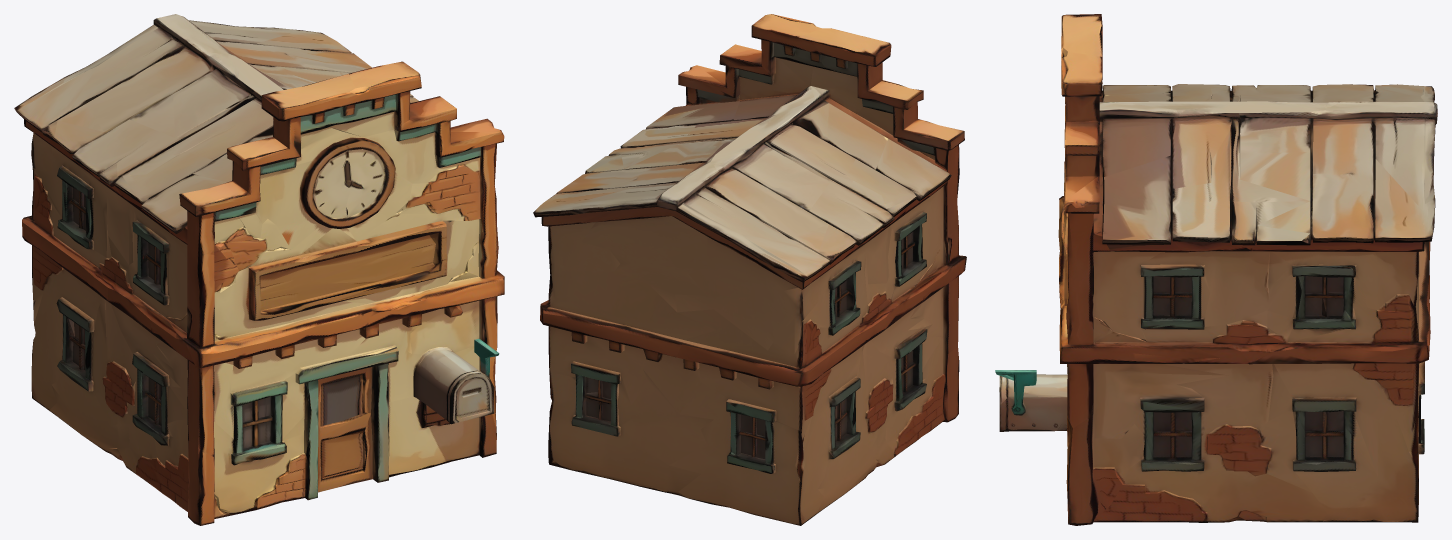
File: poste_shell.glb
3 renders of one model, left to right at view 1: azimuth 30°, elevation 25°; view 2: azimuth 150°, elevation 25°; view 3: azimuth 270°, elevation 25°, orthographic. The views are drawn at different scales.
Visible parts, largest first — view 1: wl_poste; view 2: wl_poste; view 3: wl_poste.
Part boxes in pixels (x1,y1,x2,y2): wl_poste: (14,14,504,525); wl_poste: (533,14,966,525); wl_poste: (995,14,1437,525).
Bounding box in the file's own units: 7 × 8.5 × 8.4.
1 material, 1 textured.
